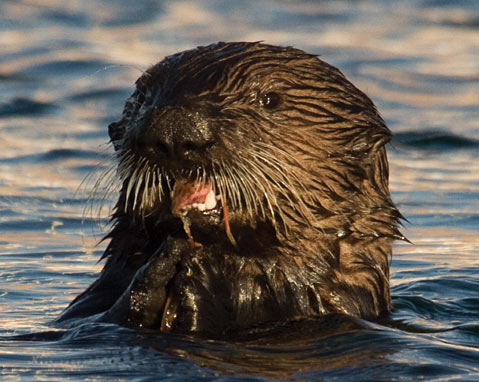otter: (90, 24, 436, 363)
